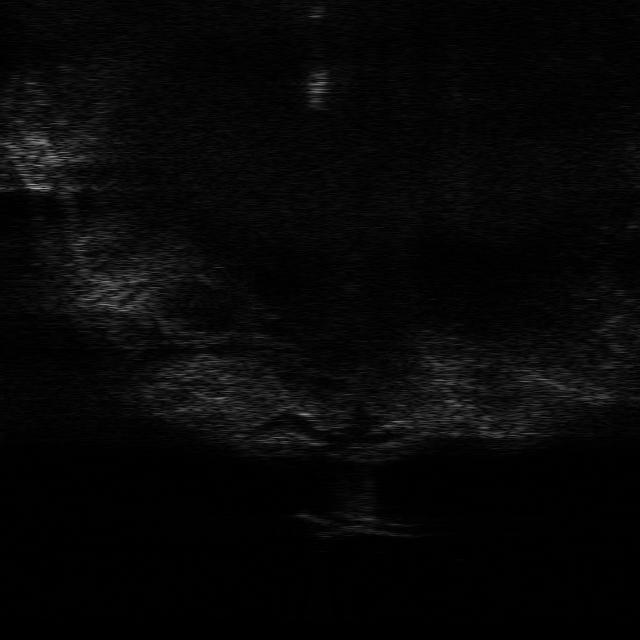plane: (295, 505, 415, 538)
